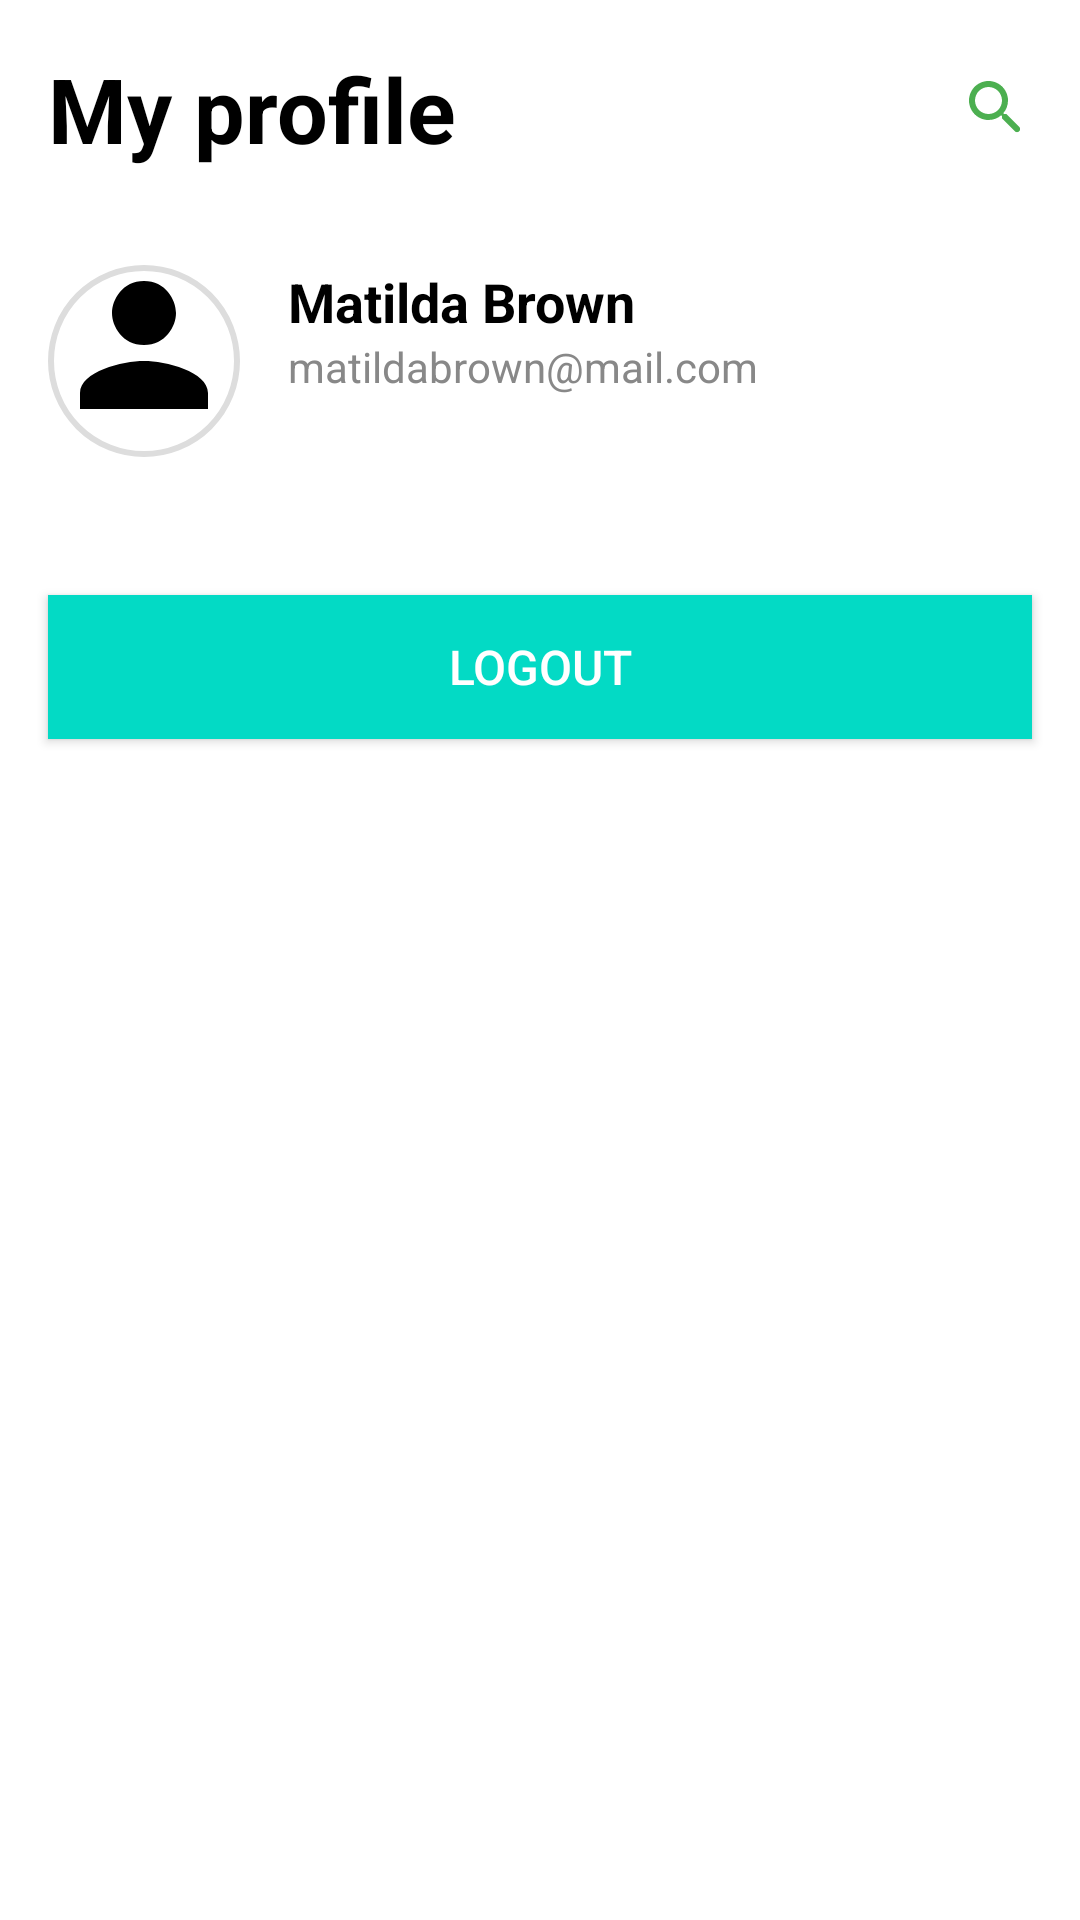

Where to tap for icons on this 1080 x 1920 app screen, as (x=x, y=y):
Search: (x=994, y=106)
